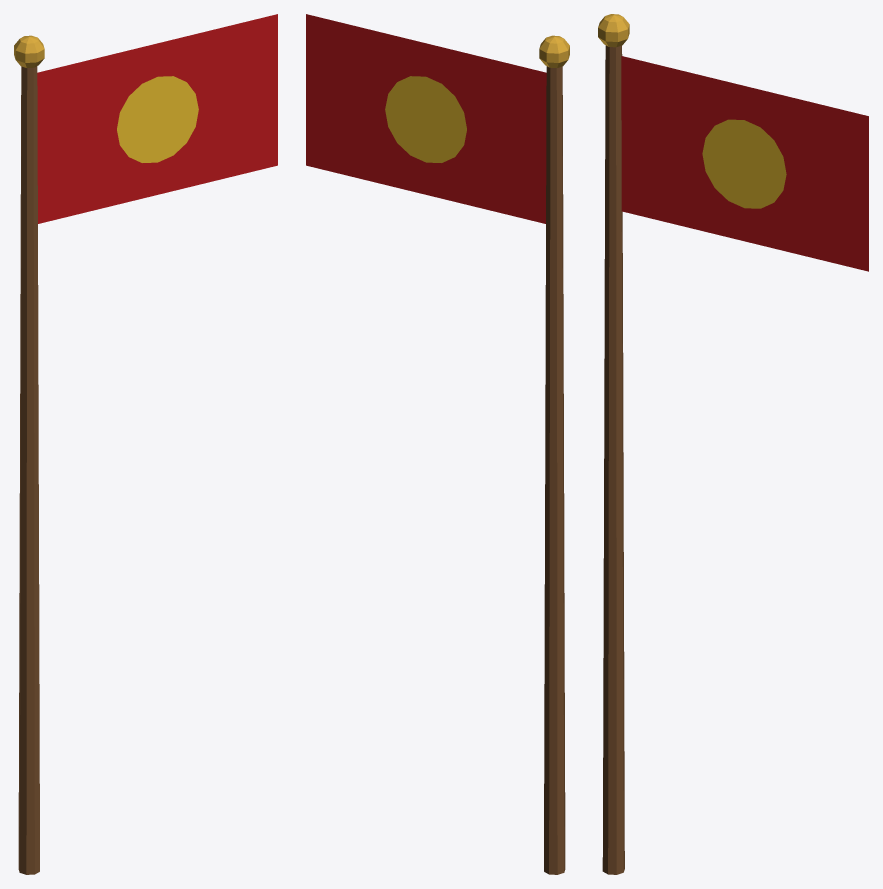
The model's file is PennantPole.obj.
3 renders of one model, left to right at view 1: azimuth 30°, elevation 25°; view 2: azimuth 150°, elevation 25°; view 3: azimuth 330°, elevation 25°, orthographic. The views are drawn at different scales.
Visible parts, largest first — view 1: PennantPole; view 2: PennantPole; view 3: PennantPole.
Part boxes in pixels (bbox=[...]): PennantPole: bbox=[14, 14, 277, 874]; PennantPole: bbox=[306, 14, 569, 874]; PennantPole: bbox=[598, 14, 868, 874].
Bounding box in the file's own units: 1.09 × 3.3 × 0.1142.
